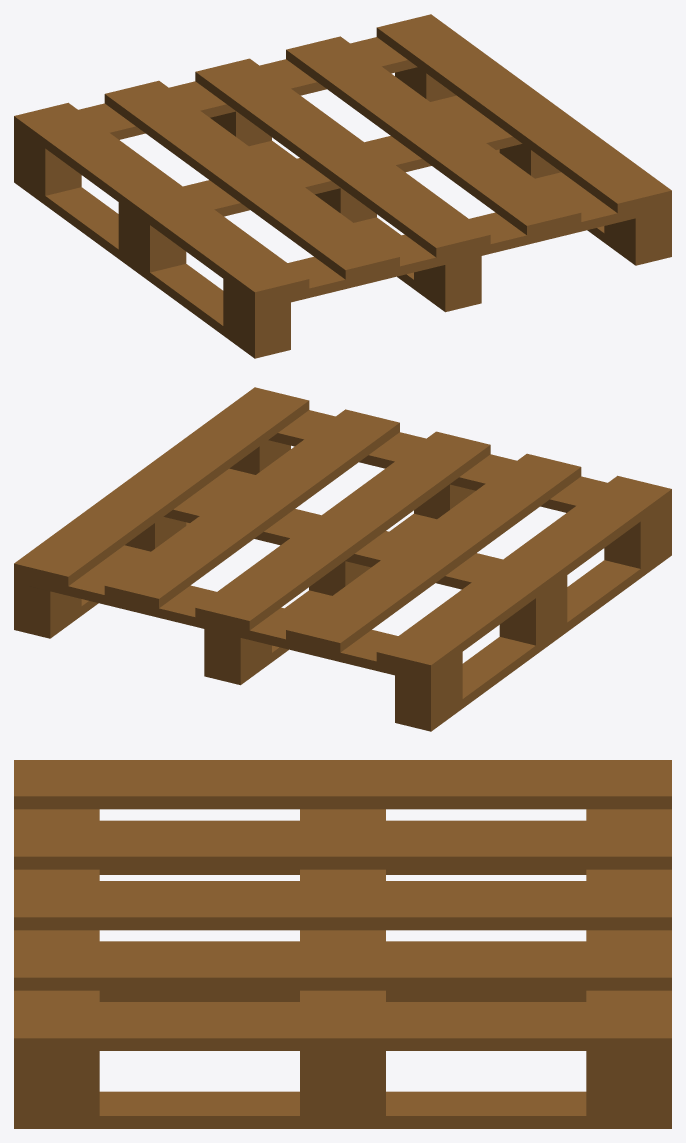
The model's file is Palette.fbx.
The picture shows the model from 3 angles, top to bottom: view 1: azimuth 30°, elevation 25°; view 2: azimuth 150°, elevation 25°; view 3: azimuth 270°, elevation 25°; orthographic projection. The views are drawn at different scales.
Parts seen in each view (by area): view 1: Palette; view 2: Palette; view 3: Palette.
Part boxes in pixels (x1,y1,x2,y2): Palette: (14,14,671,358); Palette: (14,387,671,731); Palette: (14,760,671,1128).
Bounding box in the file's own units: 115 × 17.5 × 115.
